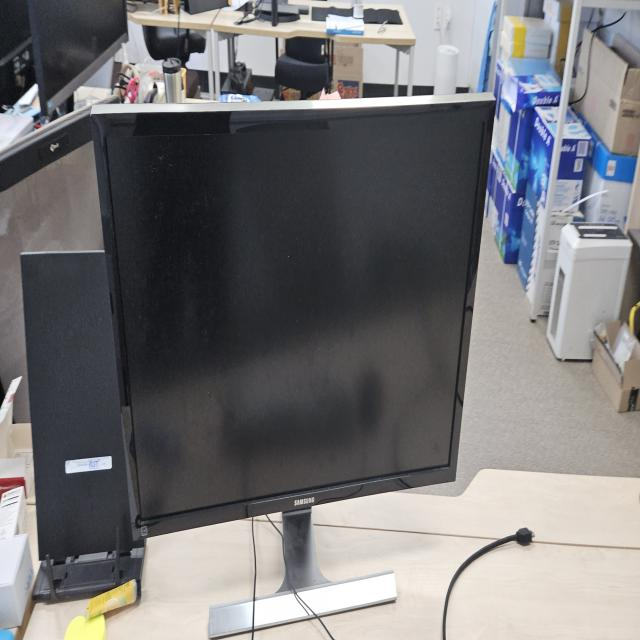Monitor: (89, 86, 498, 630)
